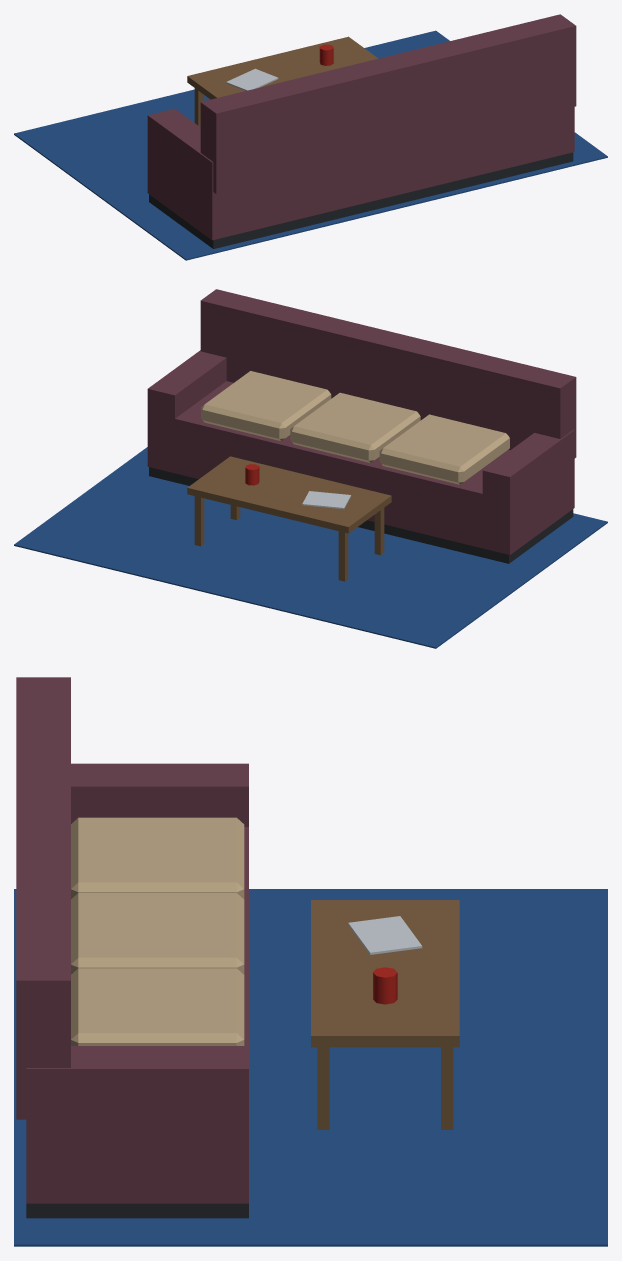
The model's file is cg-lounge.glb.
3 views of the same model, one above another, from view 1: azimuth 30°, elevation 25°; view 2: azimuth 150°, elevation 25°; view 3: azimuth 270°, elevation 25° (orthographic). The views are drawn at different scales.
Parts seen in each view (by area): view 1: cg-lounge; view 2: cg-lounge; view 3: cg-lounge.
Boxes of the visible parts, <box> form: cg-lounge: <box>14,14,607,260</box>; cg-lounge: <box>14,289,607,648</box>; cg-lounge: <box>14,677,607,1246</box>.
Size of the model in its own units: 3.4 by 1.07 by 2.4.
